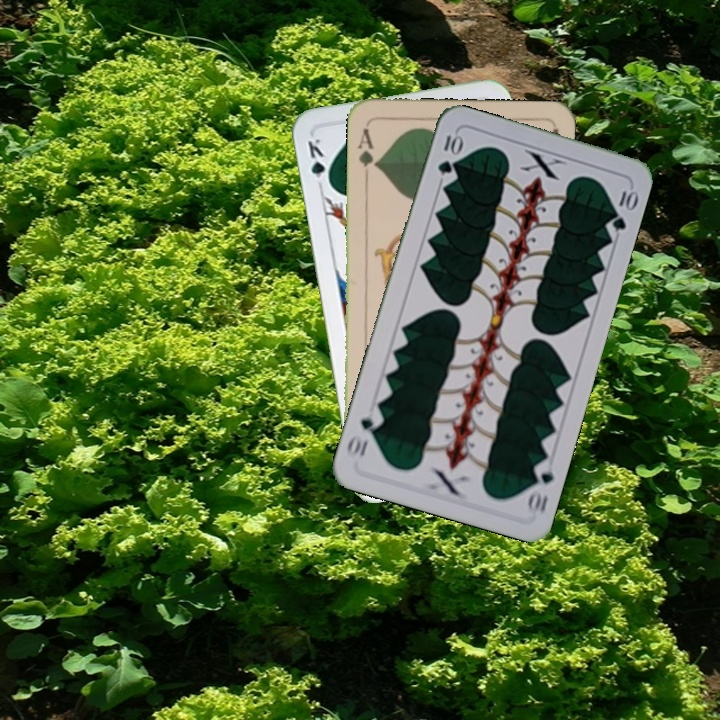G10: (523, 457, 557, 517), (433, 129, 464, 177)
GA: (354, 124, 380, 181)
GK: (303, 134, 333, 192)
